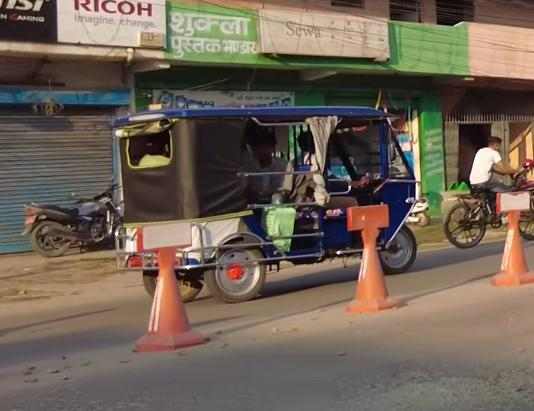bike: (24, 172, 128, 255)
e-rickshaw: (118, 94, 419, 291)
